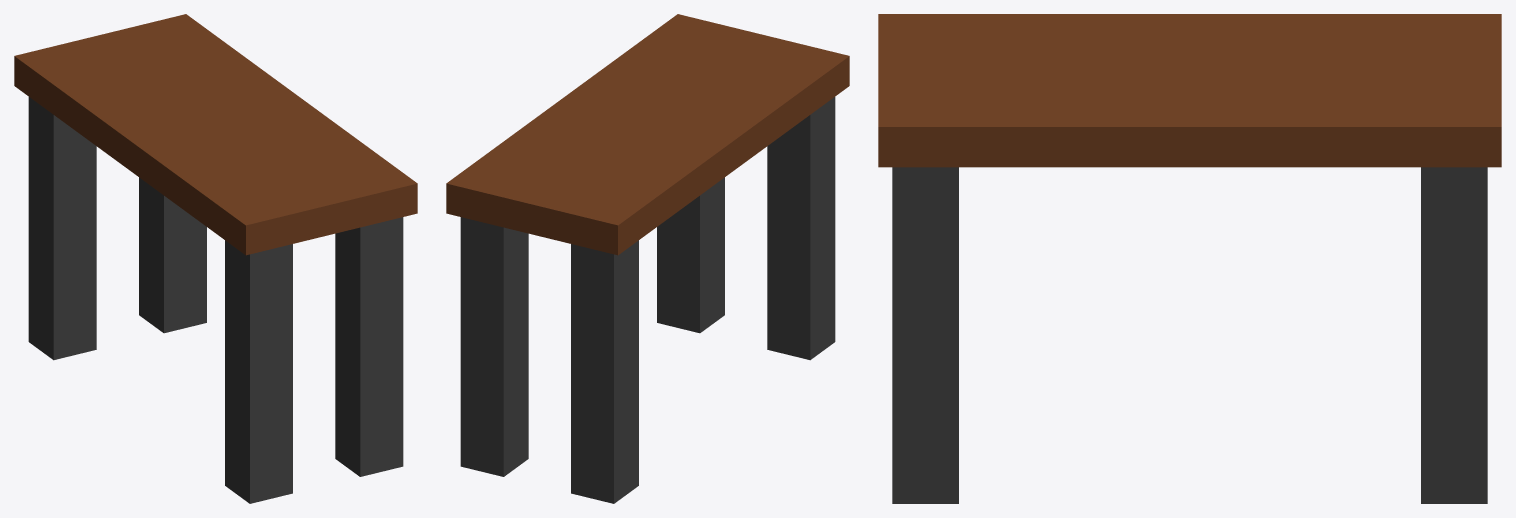
File: desk.glb
3 views of the same model, side by side, from view 1: azimuth 30°, elevation 25°; view 2: azimuth 150°, elevation 25°; view 3: azimuth 270°, elevation 25° (orthographic). The views are drawn at different scales.
Visible parts, largest first — view 1: Cube.001, Cube; view 2: Cube.001, Cube; view 3: Cube, Cube.001.
Boxes of the visible parts, <box> form: Cube.001: <box>28,97,403,503</box>; Cube: <box>14,14,417,255</box>; Cube.001: <box>460,97,835,503</box>; Cube: <box>446,14,849,255</box>; Cube: <box>878,14,1501,167</box>; Cube.001: <box>892,167,1487,503</box>.
Bounding box in the file's own units: 0.8677 × 1.37 × 2.02.
